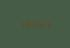eight: (24, 19, 29, 27)
four: (42, 20, 47, 28)
seven: (18, 19, 23, 27)
six: (36, 20, 41, 28)
two: (30, 19, 35, 28)
